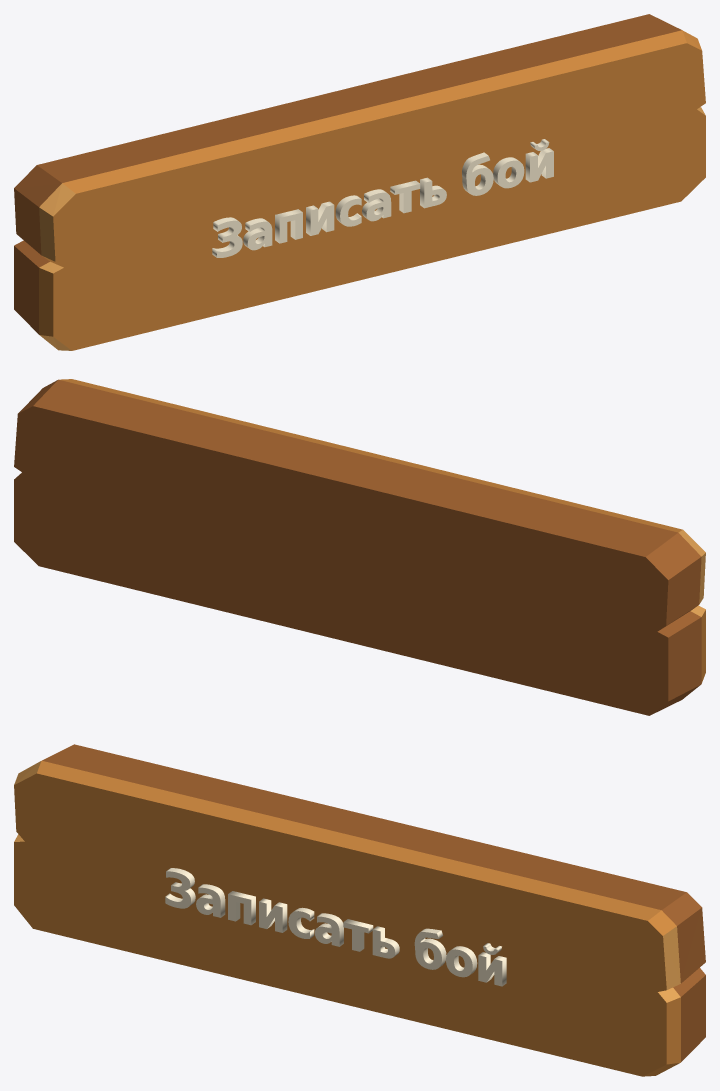
Rendered from RecordTake.fbx.
3 renders of one model, top to bottom at view 1: azimuth 30°, elevation 25°; view 2: azimuth 150°, elevation 25°; view 3: azimuth 330°, elevation 25°, orthographic.
Parts seen in each view (by area): view 1: Stone.009, Label.001; view 2: Stone.009; view 3: Stone.009, Label.001.
Boxes of the visible parts, x1,y1,x2,y2 form: Stone.009: (14, 14, 705, 350); Label.001: (212, 139, 553, 257); Stone.009: (14, 379, 705, 715); Stone.009: (14, 744, 705, 1076); Label.001: (165, 868, 506, 986).
Bounding box in the file's own units: 0.289 × 0.07 × 0.0337.
